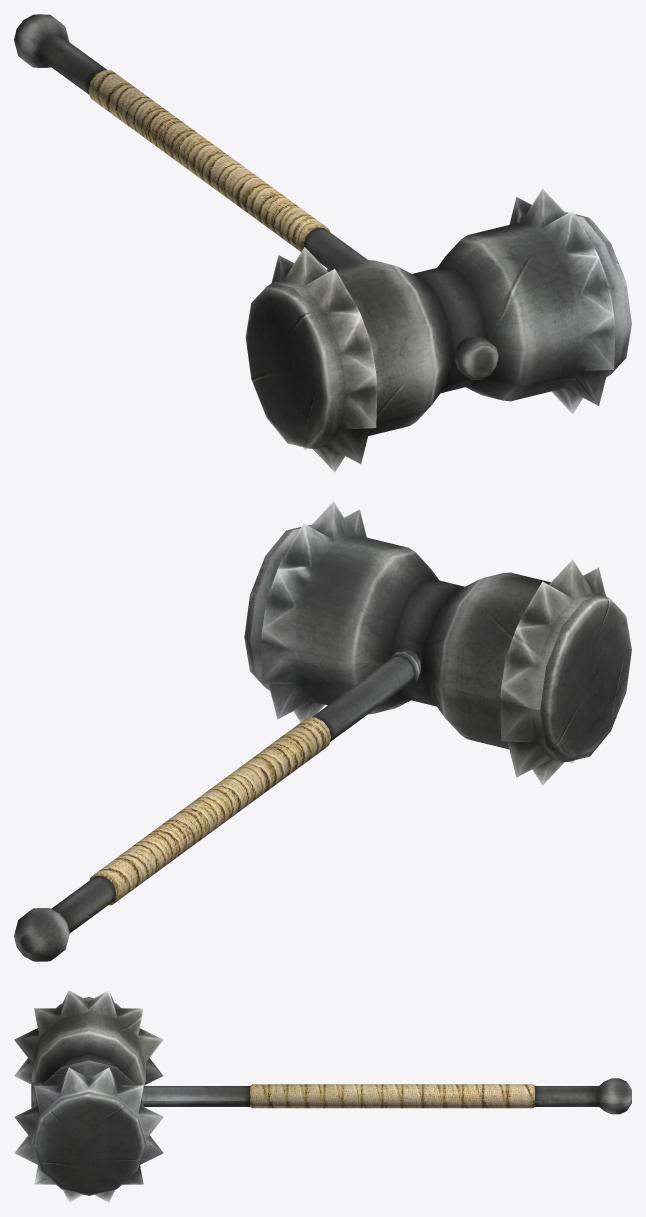
File: warhammer.glb
3 renders of one model, top to bottom at view 1: azimuth 30°, elevation 25°; view 2: azimuth 150°, elevation 25°; view 3: azimuth 270°, elevation 25°, orthographic. The views are drawn at different scales.
Parts seen in each view (by area): view 1: hammer-200; view 2: hammer-200; view 3: hammer-200.
Boxes of the visible parts, left/top/right/bottom form: hammer-200: left=14, top=14, right=631, bottom=472; hammer-200: left=14, top=501, right=631, bottom=961; hammer-200: left=14, top=990, right=631, bottom=1202.
Bounding box in the file's own units: 0.382 × 0.2421 × 1.
Materials: 1 (1 with a texture image).
